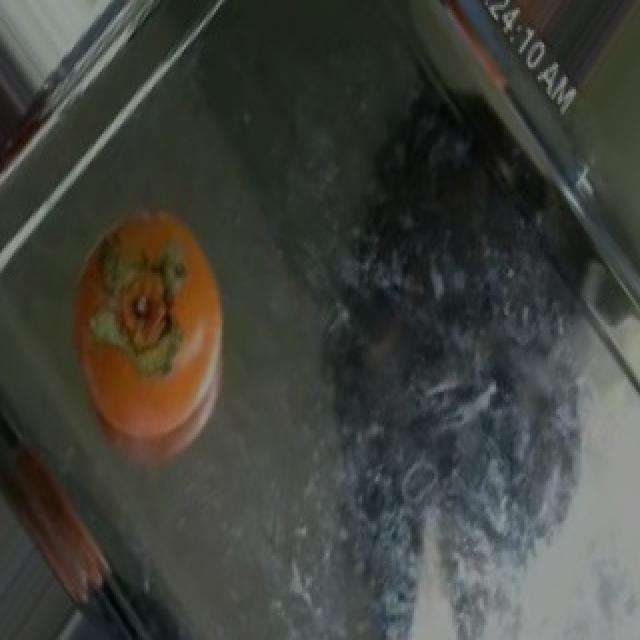Fruit: (42, 186, 258, 489)
